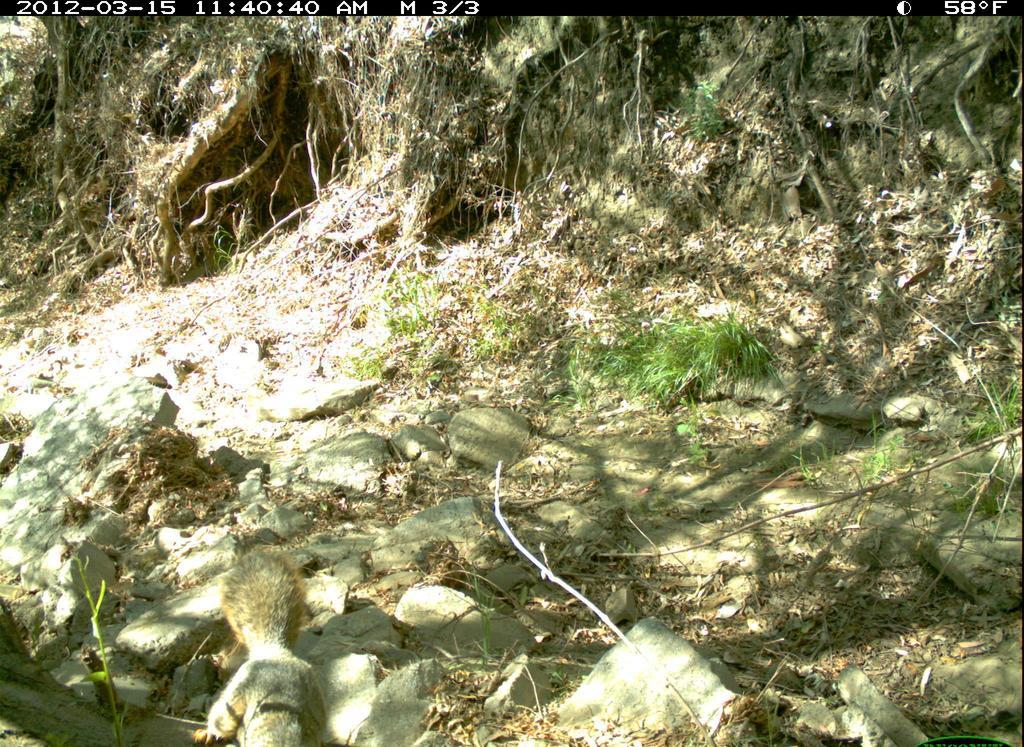squirrel: (196, 541, 336, 747)
